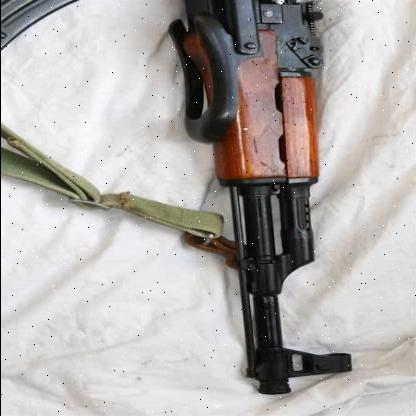rifle: (102, 0, 369, 400)
